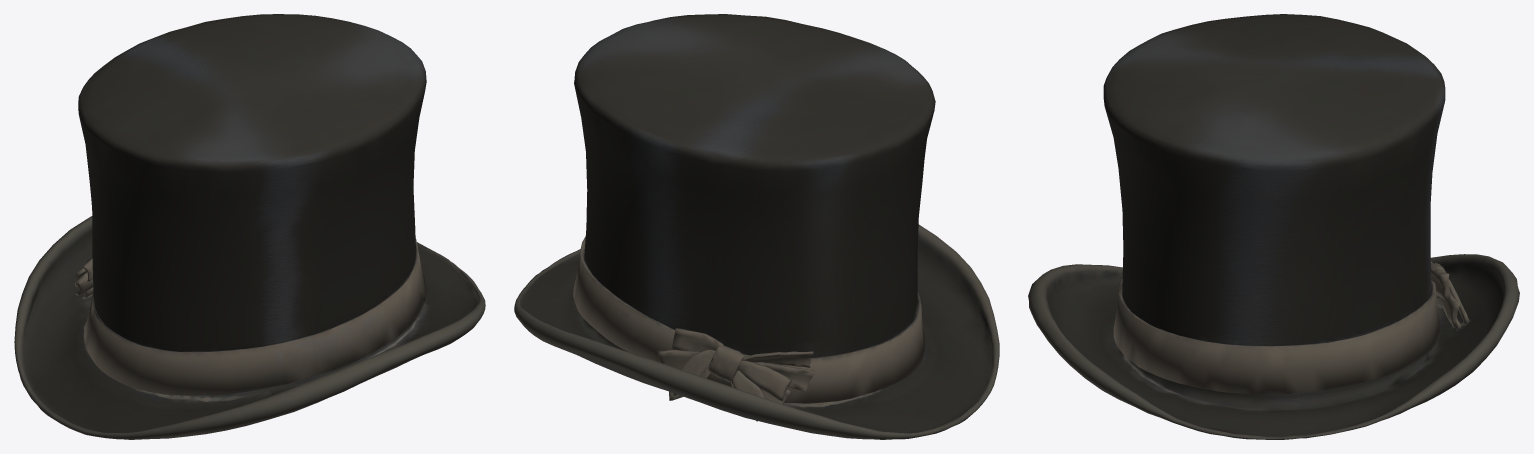
3 renders of one model, left to right at view 1: azimuth 30°, elevation 25°; view 2: azimuth 150°, elevation 25°; view 3: azimuth 270°, elevation 25°, orthographic. The views are drawn at different scales.
Parts seen in each view (by area): view 1: tripo_node_65db52e6-e0d2-4404-bad7-041b5a72ce10; view 2: tripo_node_65db52e6-e0d2-4404-bad7-041b5a72ce10; view 3: tripo_node_65db52e6-e0d2-4404-bad7-041b5a72ce10.
Part boxes in pixels (bbox=[...]): tripo_node_65db52e6-e0d2-4404-bad7-041b5a72ce10: bbox=[14, 14, 485, 439]; tripo_node_65db52e6-e0d2-4404-bad7-041b5a72ce10: bbox=[514, 14, 999, 439]; tripo_node_65db52e6-e0d2-4404-bad7-041b5a72ce10: bbox=[1028, 14, 1519, 439].
Bounding box in the file's own units: 0.998 × 0.6699 × 0.9668.
1 material, 1 textured.
